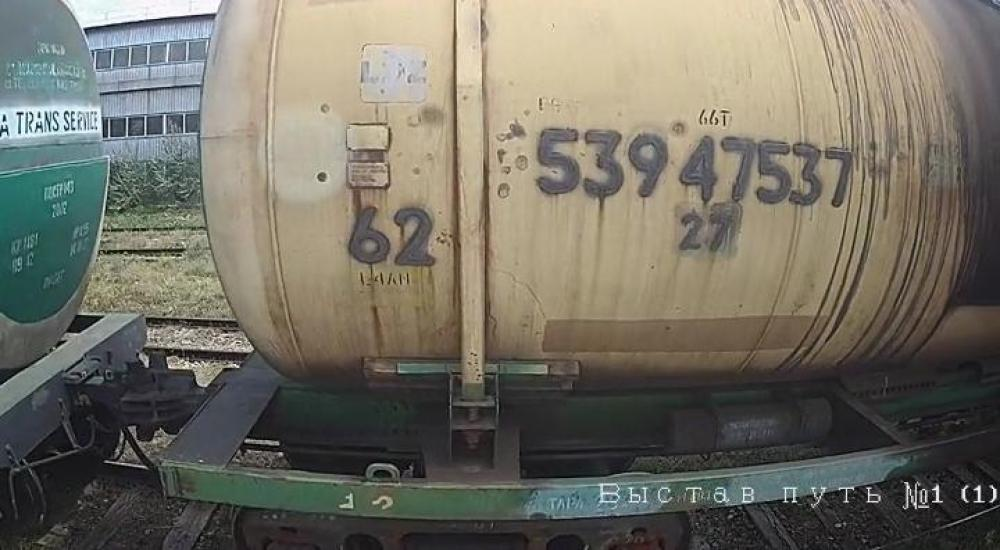Wagon-number: (530, 124, 856, 212)
